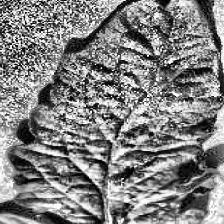Angular Leafspot: (156, 117, 221, 134), (18, 196, 63, 217), (156, 207, 193, 224)
